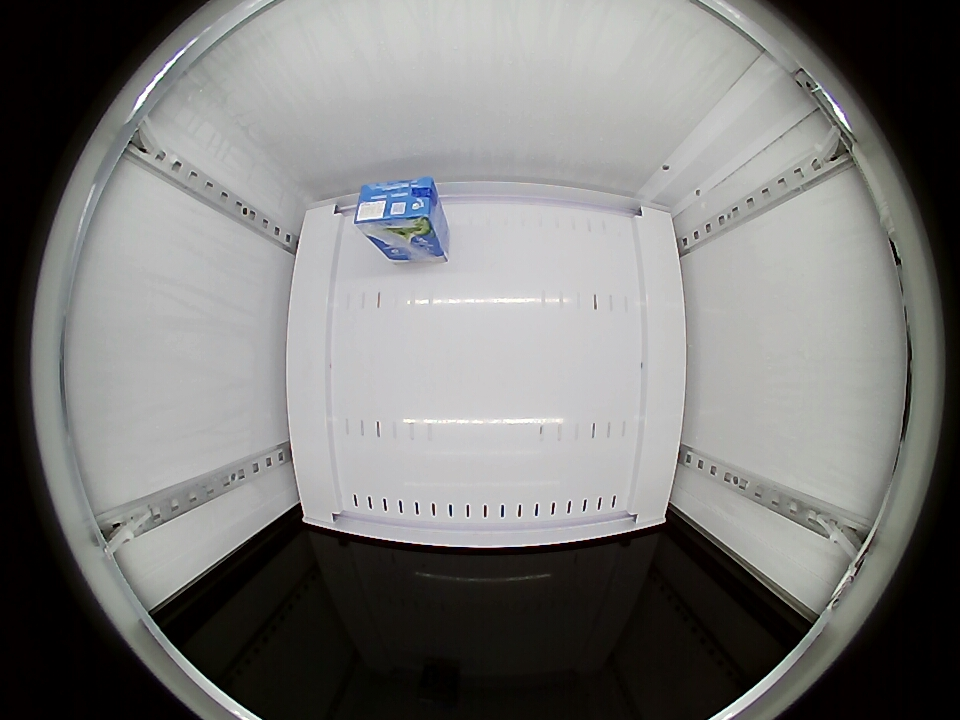weitanai: (354, 177, 439, 240)
